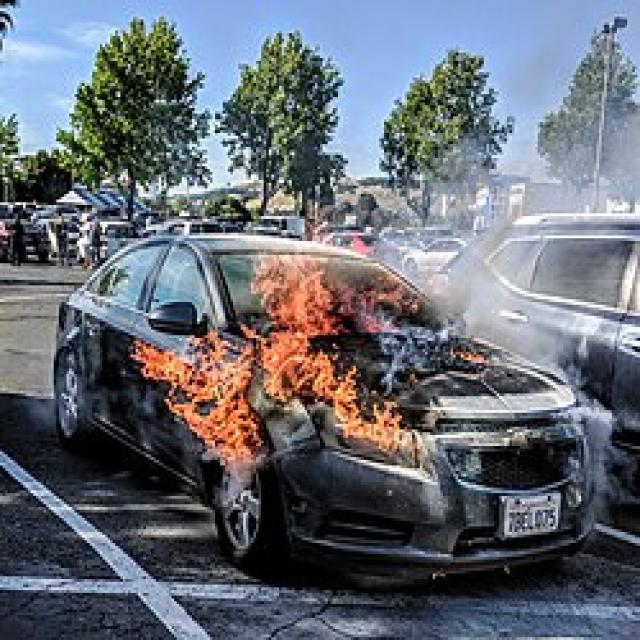fire: (262, 331, 403, 455), (131, 332, 263, 464), (252, 251, 418, 334)
